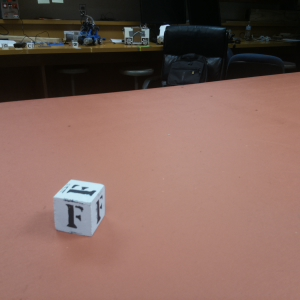blockF: (52, 179, 105, 236)
